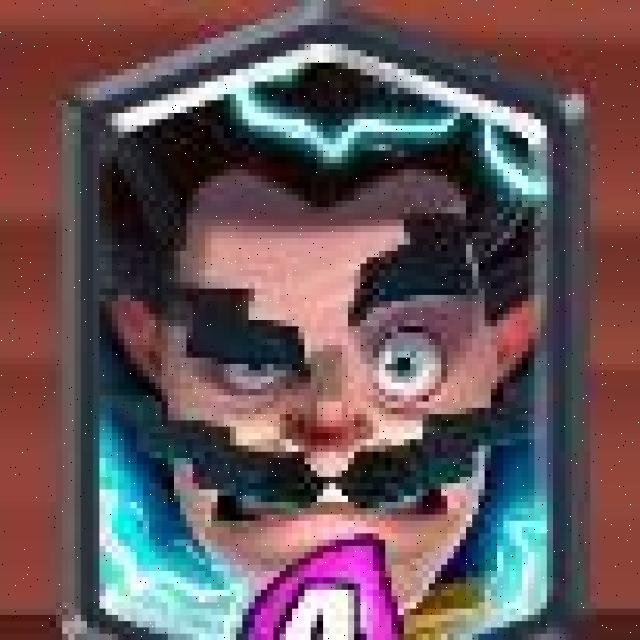Electro_Wizard: (53, 3, 564, 640)
